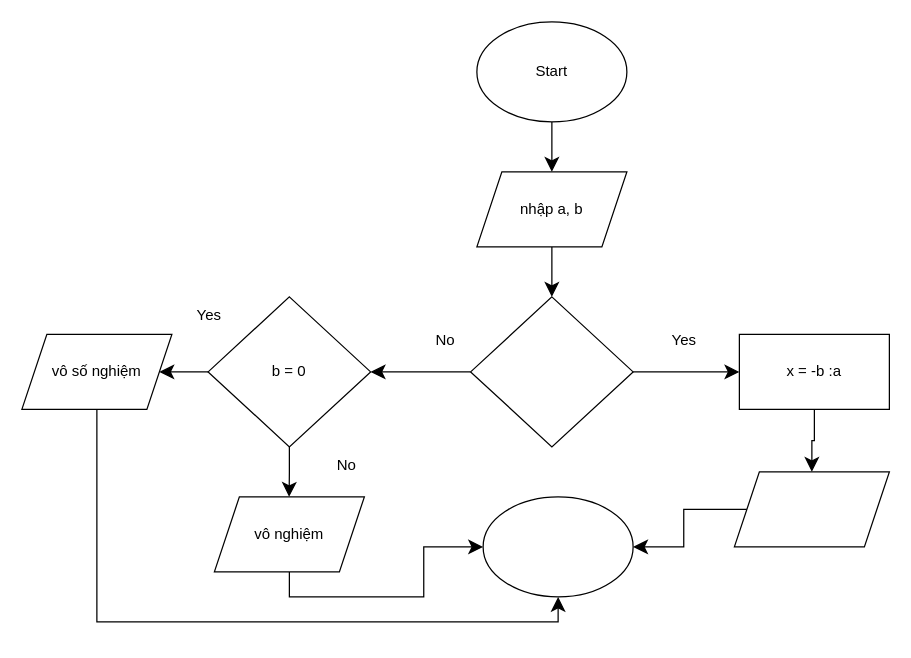
The diagram is 911 pixels wide and 658 high, and some of its shapes have lost their labels. Each missing label, with the box of its shape:
a <> 0: (469, 296, 633, 447)
End: (482, 496, 633, 597)
show x: (733, 471, 889, 547)
